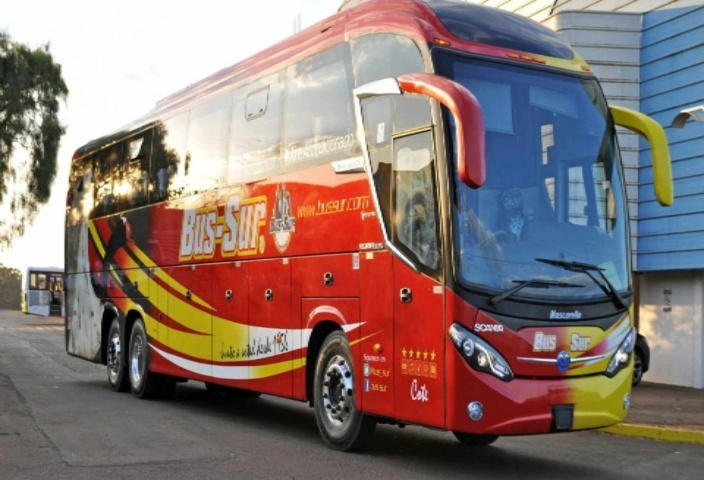bus: (50, 1, 679, 468)
